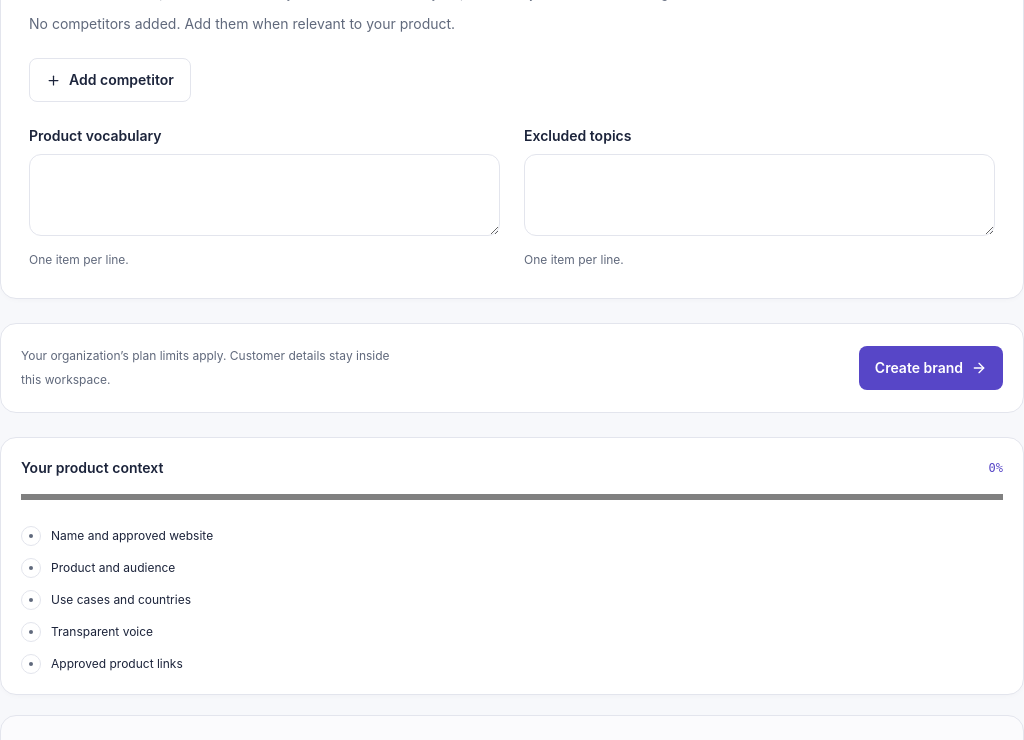
brand profile workflows › validates required product context before making a request
(page scrolled)
Click the button "Create brand". click: (931, 368)
box: [859,346,1003,390]
(page scrolled)
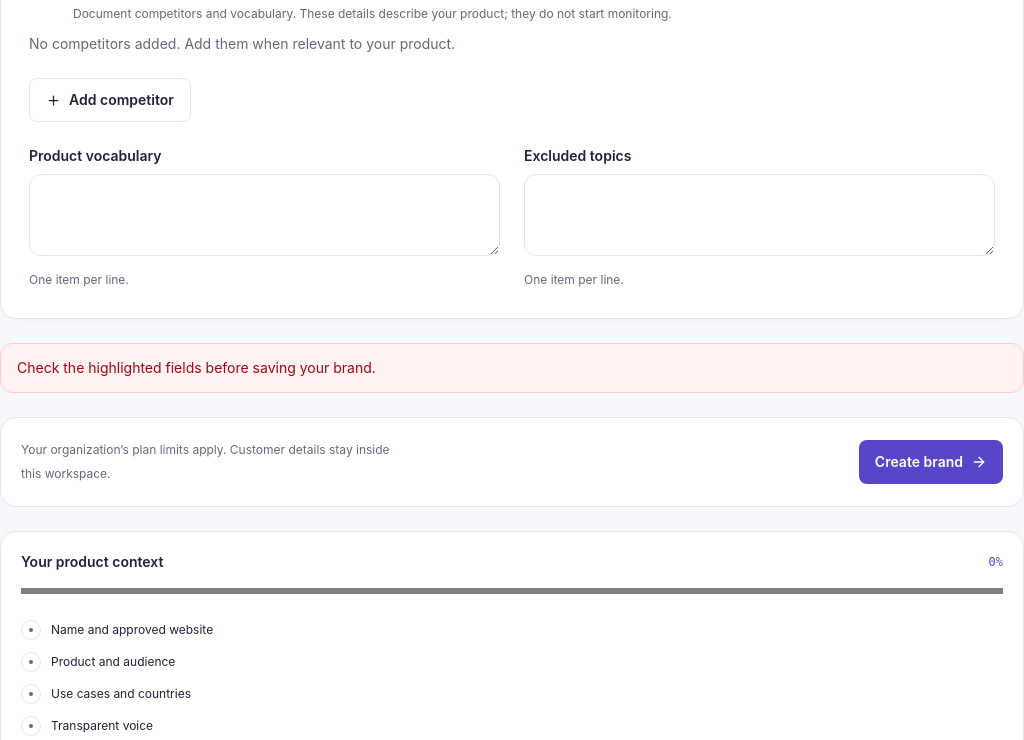
Now the text "Check the highlighted fields before saving your brand." is shown, box [0,343,1023,393]
